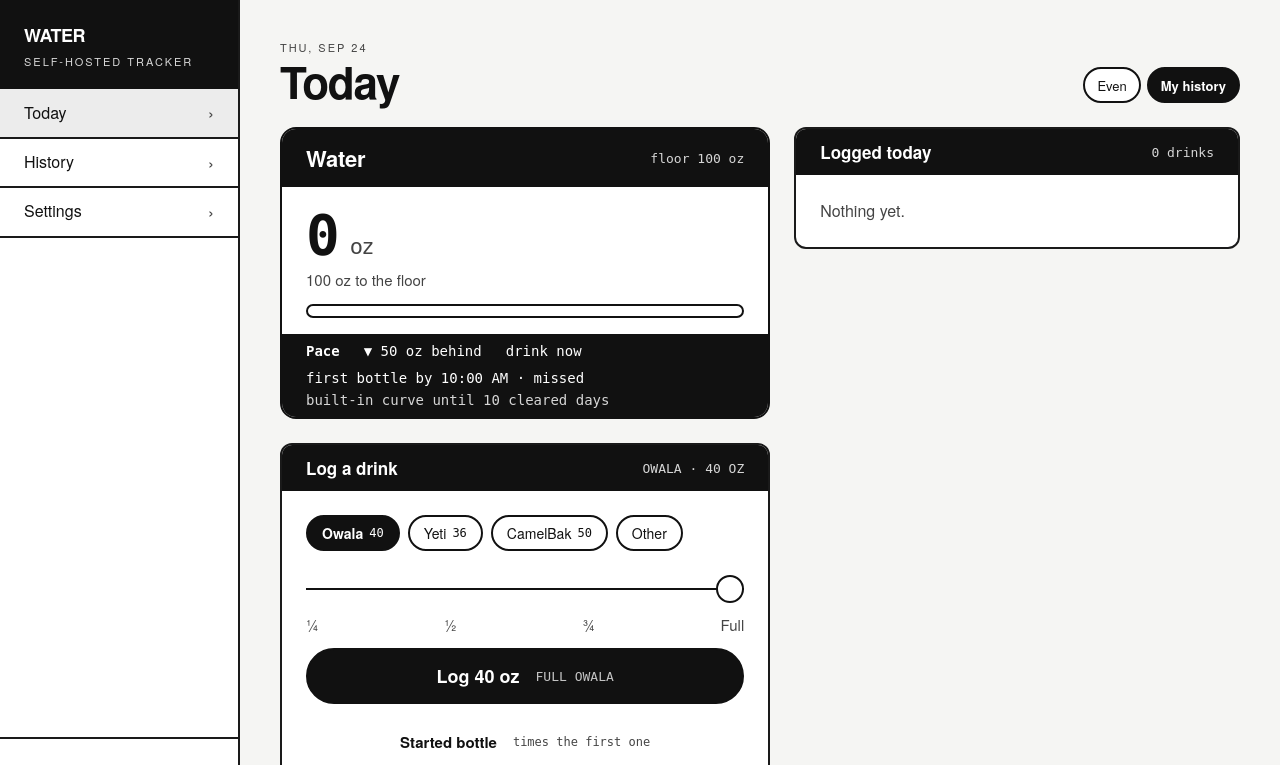
Test: Log faster (v1.8) › undo: a drink shows 'Logged 40 oz · Undo', and Undo removes it through the delete path
Click the button "Log 40 oz Full Owala" at (455, 676), box x1=306 y1=648 x2=744 y2=704
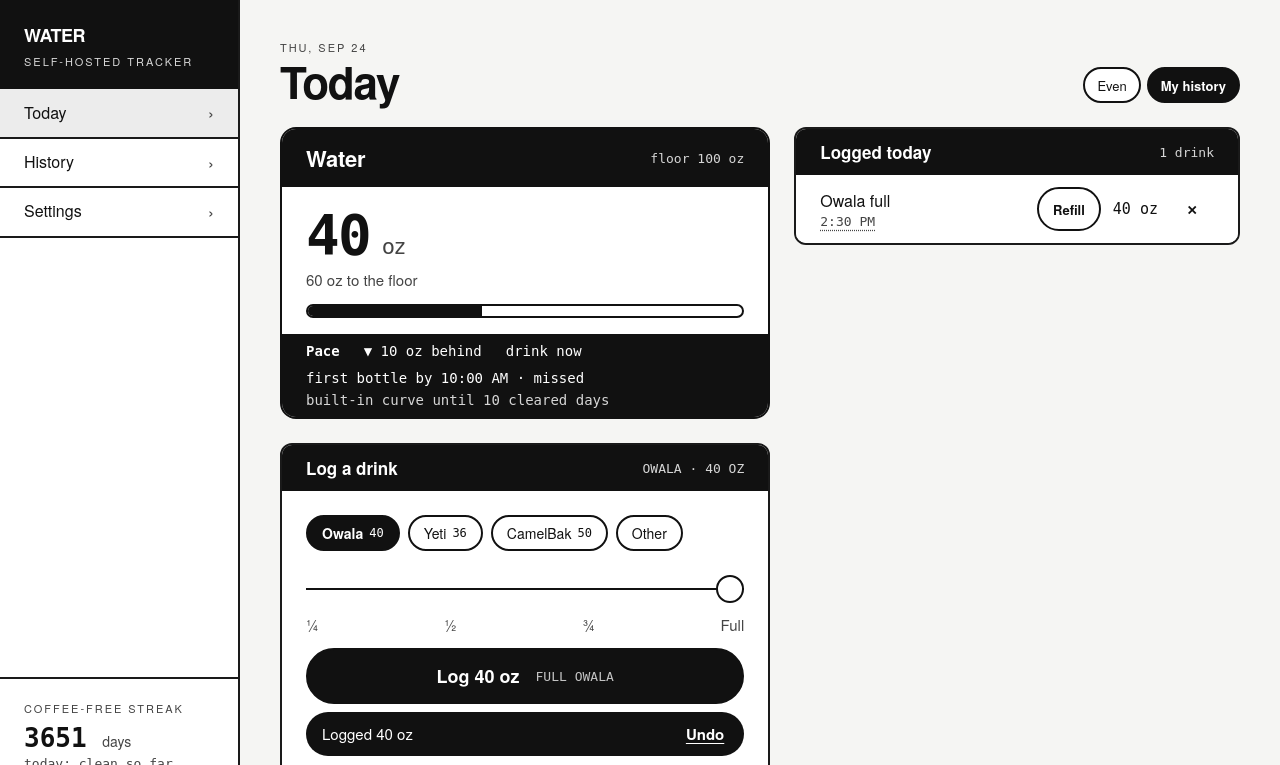
Expected: the message with class "undo-bar" reads "Logged 40 oz Undo", x1=306 y1=712 x2=744 y2=756
Click the button "Undo" at (705, 734), box x1=670 y1=712 x2=740 y2=756
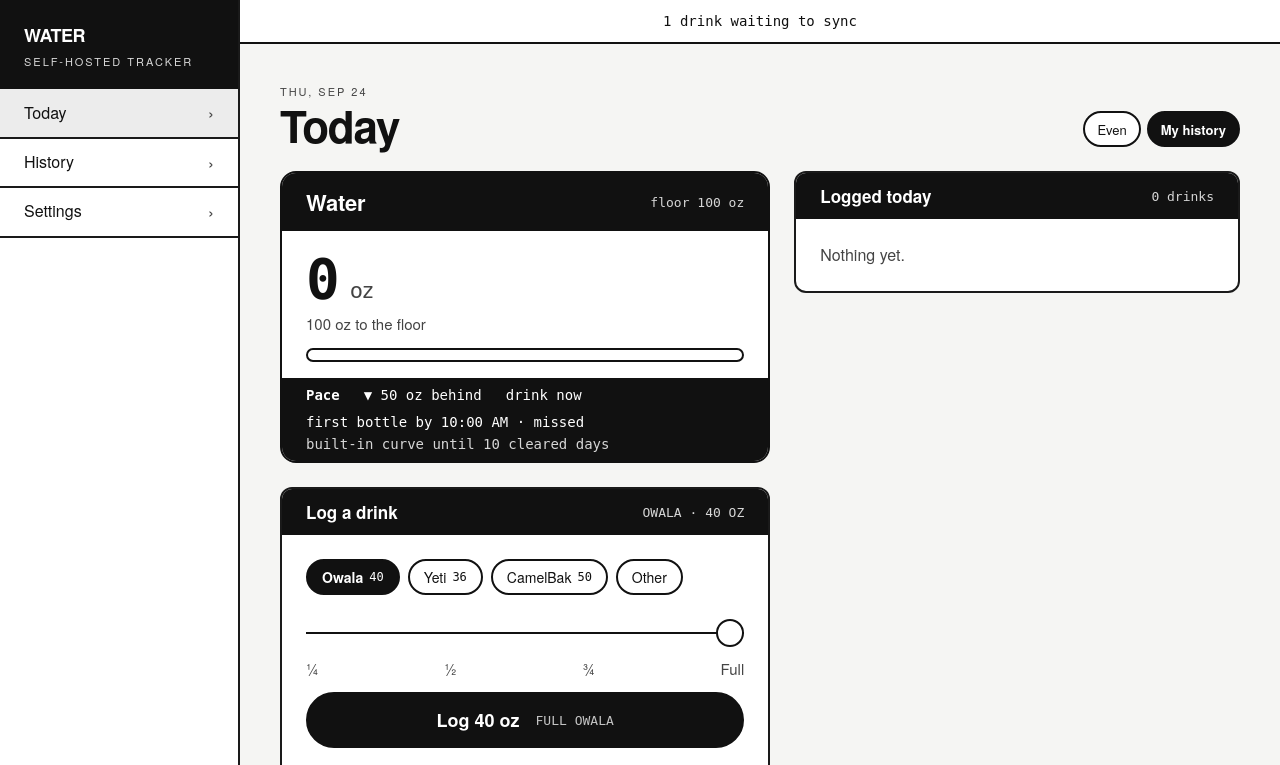
Expected: the text "Nothing yet." is shown, x1=820 y1=244 x2=905 y2=266
Expected: the button "Undo" is gone
